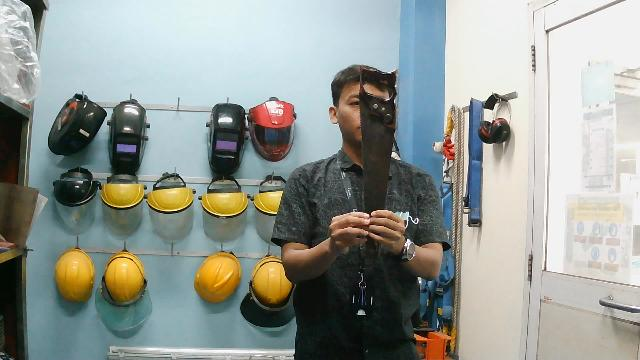gergaji_kayu: (353, 62, 399, 253)
